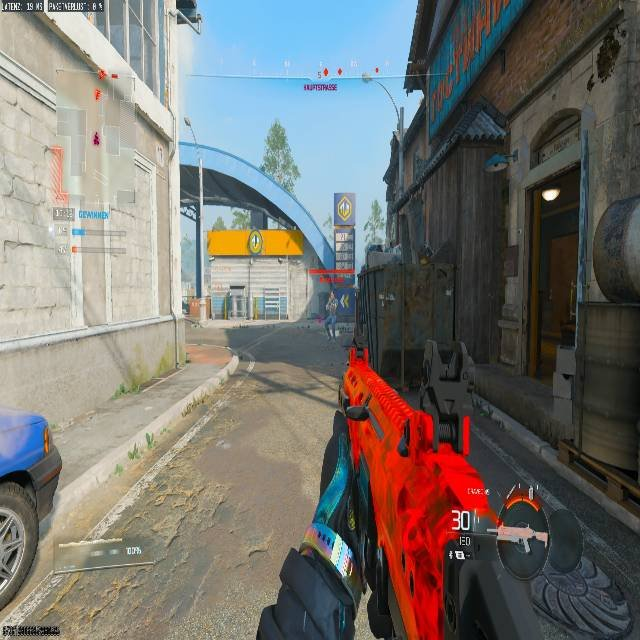head: (328, 292, 335, 301)
player: (322, 290, 338, 340)
